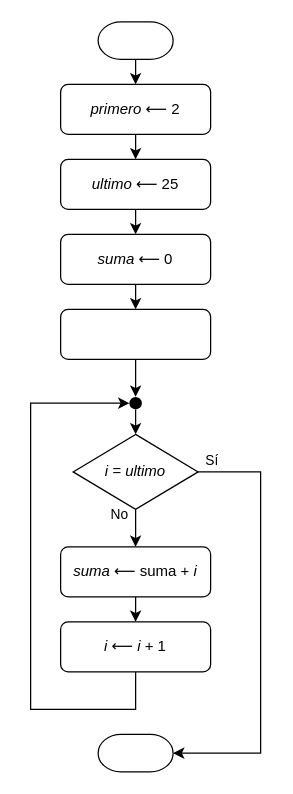
Some shapes in this 293 by 794 pixel diagram are drawn without their labels. The box of each missing label's shape, as (x1, y1, x2, y2) in pixels:
Fin: (97, 733, 173, 772)
i ⟵ primero: (59, 308, 211, 359)
Inicio: (97, 21, 173, 59)
